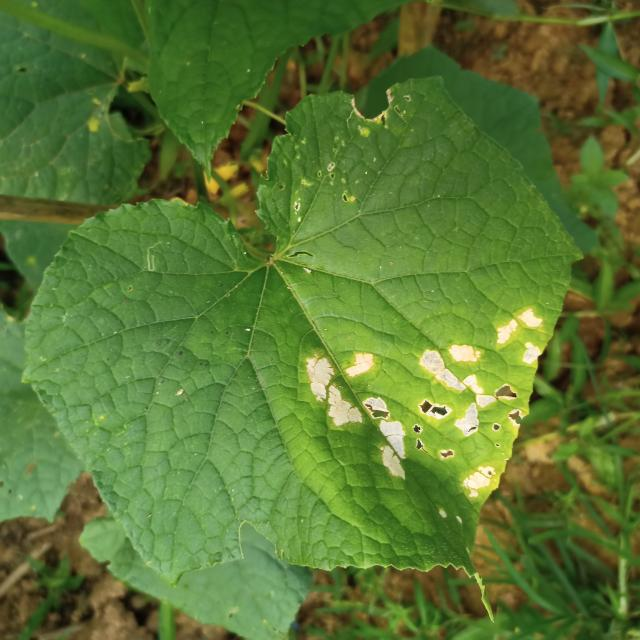disease_cucumber: (293, 302, 550, 525)
